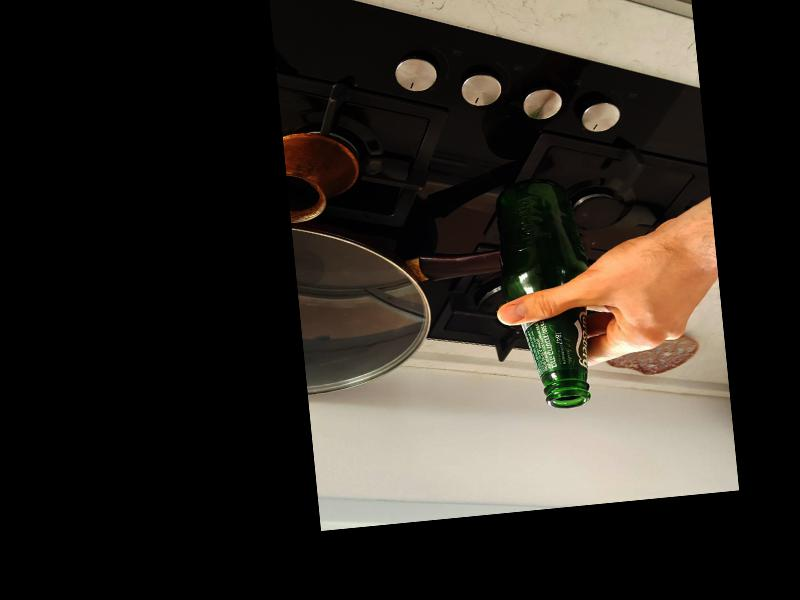Beer: (493, 176, 592, 410)
